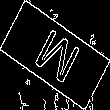M_SW: (27, 21, 83, 89)
